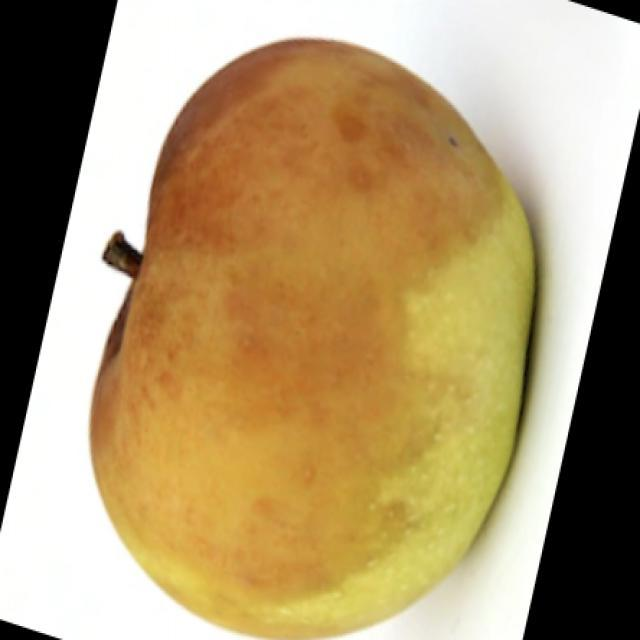Rotten: (94, 53, 538, 625)
